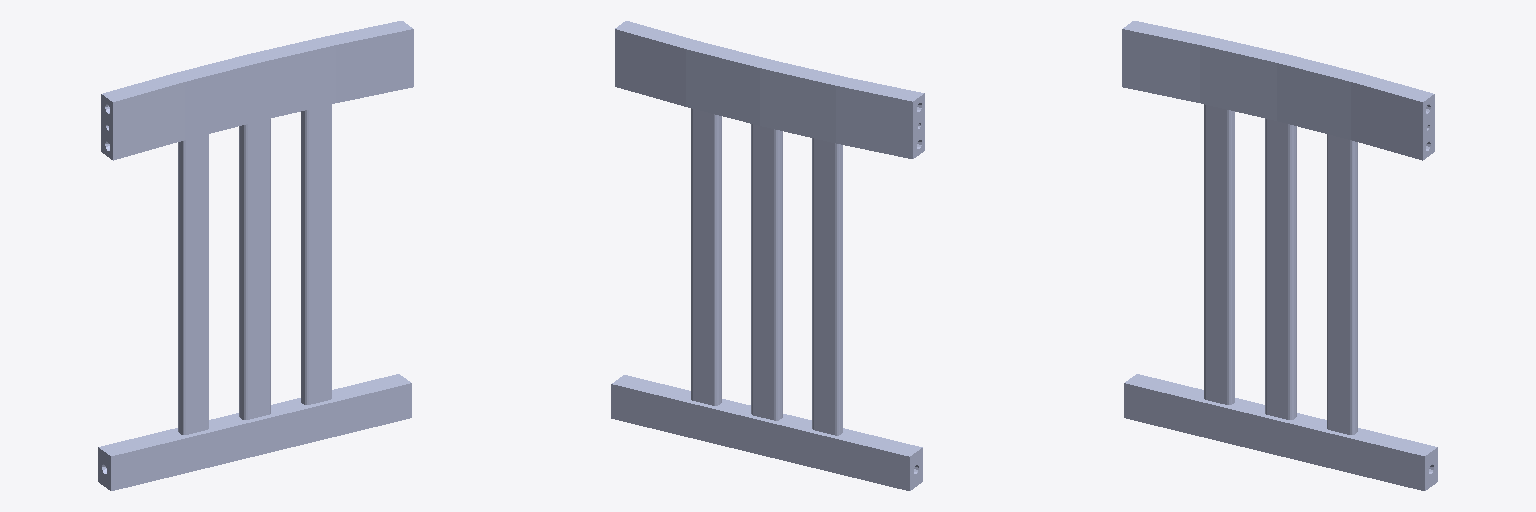
robot.urdf — part4:
<?xml version="1.0" encoding="utf-8"?>
<!-- This URDF was automatically created by SolidWorks to URDF Exporter! Originally created by [author] ([email redacted]) 
     Commit Version: 1.5.1-0-g916b5db  Build Version: 1.5.7152.31018
     For more information, please see http://wiki.ros.org/sw_urdf_exporter -->
<robot name="part4">
  <link name="part4">
    <inertial>
      <origin
        xyz="-1.0124E-14 -0.00495780000000001 -0.12903"
        rpy="0 0 0" />
      <mass
        value="0.58715" />
      <inertia
        ixx="0.009627"
        ixy="-2.2864E-15"
        ixz="5.5404E-16"
        iyy="0.012399"
        iyz="3.19519999999941E-06"
        izz="0.0028006" />
    </inertial>
    <visual>
      <origin
        xyz="0 0 0"
        rpy="1.5707963267949 0 0" />
      <geometry>
        <mesh
          filename="package://cai_env/meshes/part4.STL" />
      </geometry>
      <material
        name="">
        <color
          rgba="0.79216 0.81961 0.93333 1" />
        <texture
          filename="package://cai_env/textures/" />
      </material>
    </visual>
    <collision>
      <origin
        xyz="0 0 0"
        rpy="1.5707963267949 0 0" />
      <geometry>
        <mesh
          filename="package://cai_env/meshes/part4.STL" />
      </geometry>
    </collision>
  </link>

  <gazebo reference="part4">
    <material>Gazebo/SkyBlue</material>
  </gazebo>
  
</robot>

--- Render facts (derived) ---
Views: 3 orthographic renders of the robot side by side, from view 1: azimuth 30°, elevation 25°; view 2: azimuth 150°, elevation 25°; view 3: azimuth 330°, elevation 25°.
Model part4 with 1 links and 0 joints (none), rooted at part4, posed all joints at 0.
Links seen in each view (by area): view 1: part4; view 2: part4; view 3: part4.
Boxes of the visible links, box(x1,y1,x2,y2) form: part4: box(98, 21, 413, 490); part4: box(611, 21, 924, 490); part4: box(1122, 21, 1437, 490).
Bounding box of the posed robot: 0.27 × 0.0241 × 0.335 m (x, y, z).
1 mesh visuals loaded from 1 distinct referenced files (1 binary STL).
